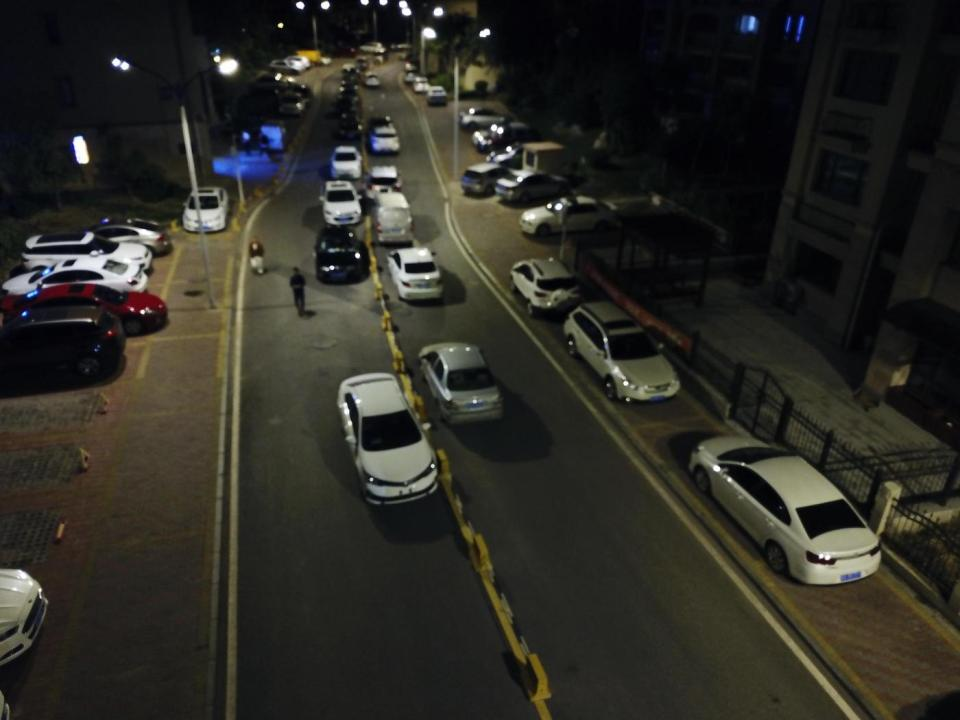car: (687, 430, 883, 586), (330, 370, 442, 504), (560, 302, 680, 405), (0, 310, 128, 382), (0, 283, 169, 336), (416, 340, 503, 428), (21, 234, 157, 282), (0, 263, 157, 303), (57, 218, 171, 258), (507, 257, 584, 314), (518, 198, 616, 239), (387, 247, 446, 302), (314, 224, 364, 281), (461, 158, 524, 199), (480, 138, 554, 170), (182, 184, 230, 232), (470, 122, 544, 152), (317, 180, 363, 226), (499, 171, 573, 199), (457, 105, 514, 130), (329, 140, 364, 180), (364, 164, 403, 198), (278, 89, 310, 117), (369, 125, 400, 153), (250, 72, 293, 89), (289, 80, 315, 105), (337, 112, 361, 138), (269, 58, 301, 76), (426, 84, 449, 107), (368, 115, 394, 133), (336, 94, 360, 113), (284, 54, 310, 69), (334, 45, 359, 59), (361, 40, 386, 54), (338, 80, 357, 98), (343, 68, 362, 86), (412, 77, 430, 94), (364, 72, 381, 89), (354, 55, 371, 72), (404, 57, 422, 73), (340, 63, 358, 76), (404, 71, 420, 85)
van: (372, 189, 419, 243)
